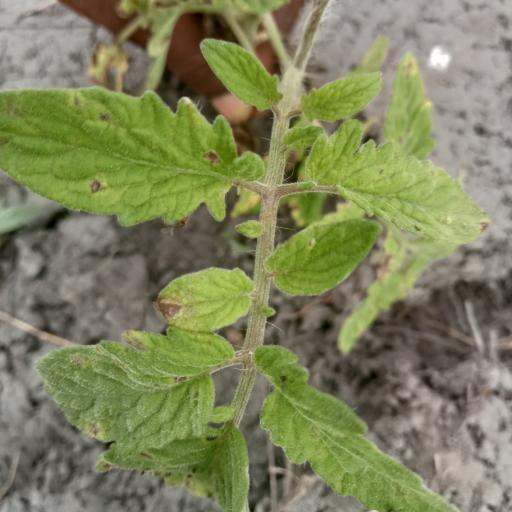Tomato_Brown_Spots: (0, 77, 267, 226), (253, 338, 458, 512), (43, 319, 241, 452), (299, 125, 496, 238)
